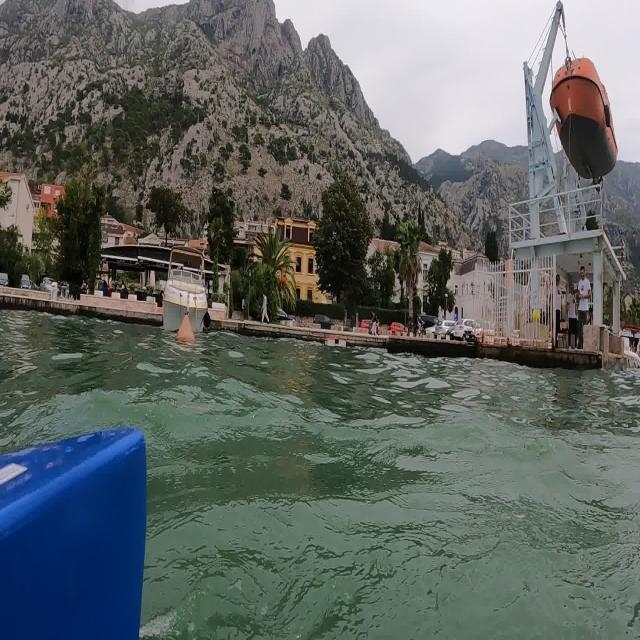boat: (160, 240, 213, 335)
buoy: (174, 309, 197, 348)
